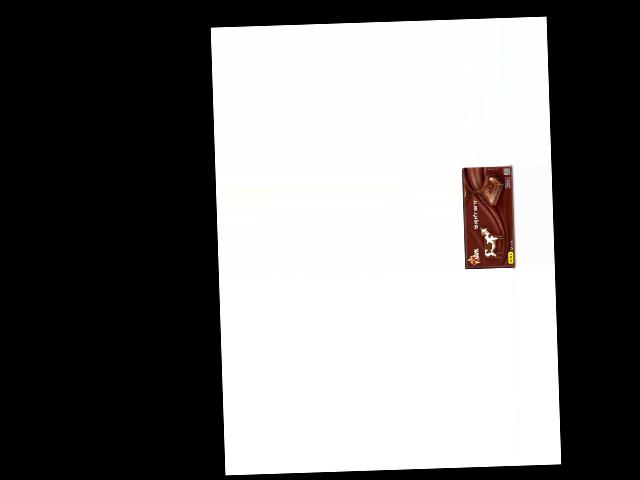chocolate: (461, 167, 516, 271)
